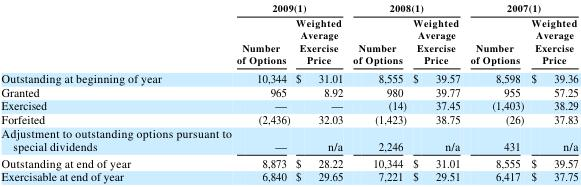table: (0, 0, 577, 183)
table column: (0, 0, 233, 183), (347, 0, 409, 183), (464, 0, 526, 183), (233, 0, 292, 183), (292, 0, 347, 183), (409, 0, 464, 183), (526, 0, 577, 183)
table column header: (0, 0, 577, 67)
table row: (0, 14, 577, 67), (0, 125, 577, 153), (0, 67, 577, 84), (0, 153, 577, 168), (0, 168, 577, 183), (0, 0, 577, 14), (0, 97, 577, 111), (0, 111, 577, 125), (0, 84, 577, 97)
table spanning cell: (347, 0, 464, 14), (233, 0, 347, 14), (464, 0, 577, 14)
